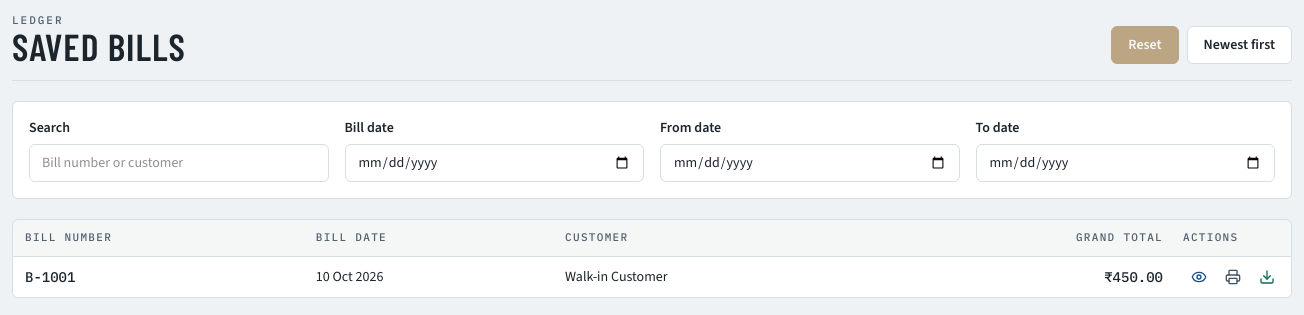
disables the range inputs when a single date is set and the date when a range is set
Expected: the text "B-1001" is shown, [13,256,304,297]
Type "2026-10-10" into the date field labelled "Bill date" at point(494, 163), box [344,144,644,182]
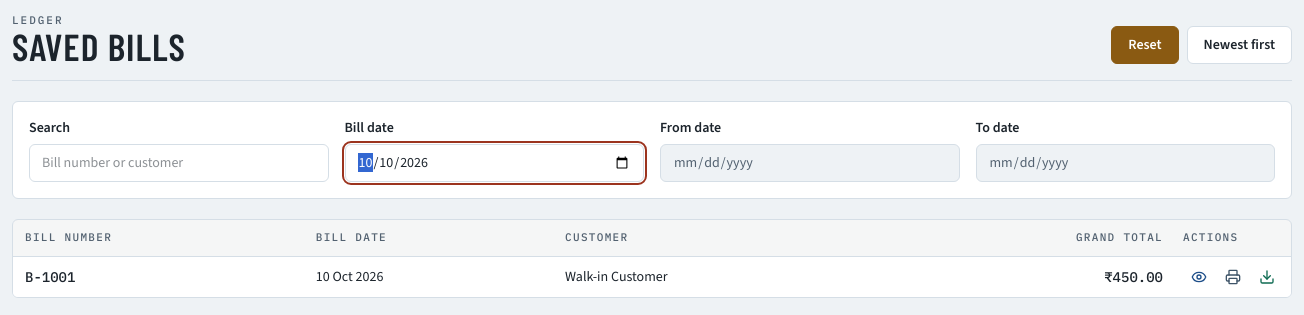
Expected: the date field labelled "From date" is disabled, [660,144,960,182]
Expected: the date field labelled "To date" is disabled, [976,144,1275,182]
Clear the date field labelled "Bill date" at point(494, 163), box [344,144,644,182]
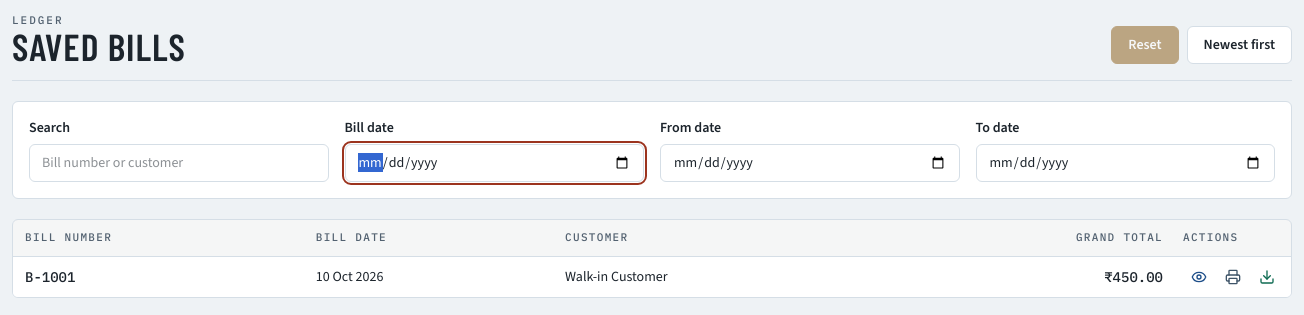
Expected: the date field labelled "From date" is enabled
Type "2026-10-01" into the date field labelled "From date" at point(810, 163), box [660,144,960,182]
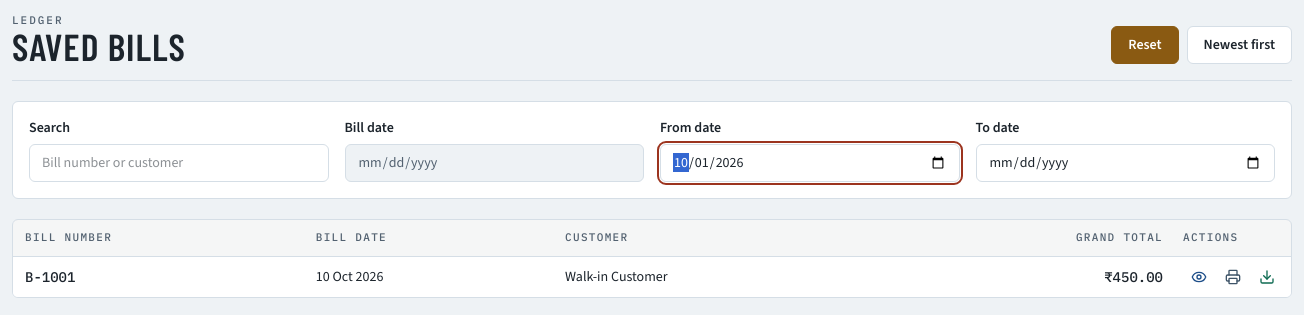
Expected: the date field labelled "Bill date" is disabled, [344,144,644,182]
